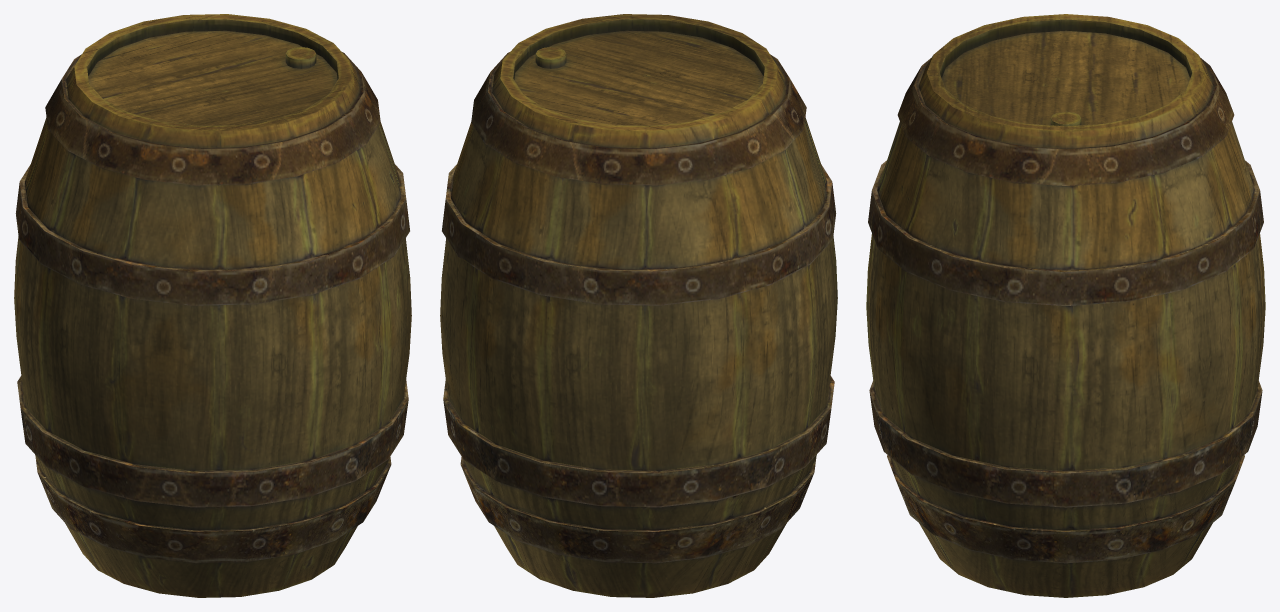
Rendered from barrel.obj.
3 views of the same model, side by side, from view 1: azimuth 30°, elevation 25°; view 2: azimuth 150°, elevation 25°; view 3: azimuth 270°, elevation 25° (orthographic).
Parts seen in each view (by area): view 1: barrel_barrel_0; view 2: barrel_barrel_0; view 3: barrel_barrel_0.
Part boxes in pixels (x1=…): barrel_barrel_0: x1=14, y1=14, x2=411, y2=597; barrel_barrel_0: x1=440, y1=14, x2=837, y2=597; barrel_barrel_0: x1=866, y1=14, x2=1265, y2=597.
Bounding box in the file's own units: 0.9722 × 1.26 × 0.9722.
